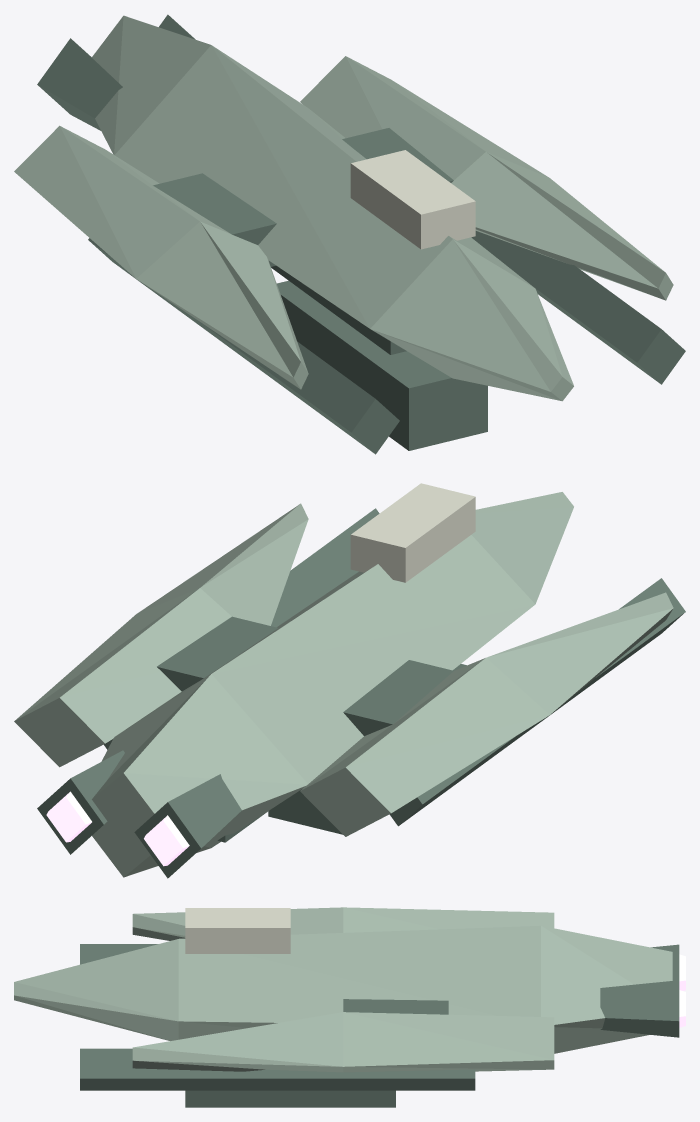
The picture shows the model from 3 angles, top to bottom: view 1: azimuth 30°, elevation 25°; view 2: azimuth 150°, elevation 25°; view 3: azimuth 270°, elevation 25°; orthographic projection. The views are drawn at different scales.
Size of the model in its own units: 2.58 by 1.39 by 4.85.
